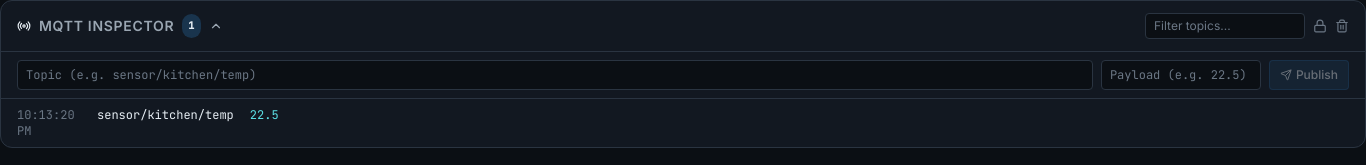
Scenario: MqttInspector › collapses the feed when the header toggle is clicked
Click the button "MQTT Inspector 1" at (120, 26), box [17,14,223,38]
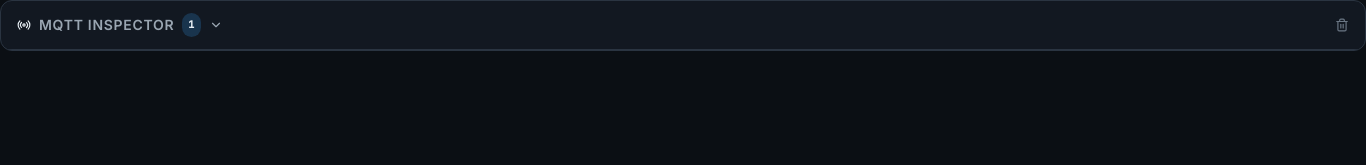
Expected: the field with placeholder "Filter topics..." is not shown
Now the text "sensor/kitchen/temp" is gone
